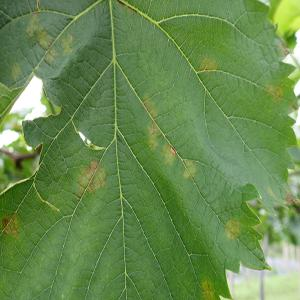Folha: (0, 0, 297, 298)
Fungo: (142, 93, 241, 240), (142, 94, 196, 179), (25, 14, 57, 66), (162, 142, 196, 179), (77, 158, 107, 198), (264, 82, 298, 110), (77, 130, 106, 150), (35, 26, 55, 52), (1, 213, 19, 238), (264, 82, 283, 104), (142, 93, 158, 119), (224, 218, 242, 240), (198, 55, 218, 72), (59, 33, 73, 56), (24, 15, 38, 38), (201, 278, 215, 300), (162, 143, 176, 165), (182, 159, 196, 179), (10, 62, 22, 84), (77, 130, 91, 146), (283, 192, 299, 205), (273, 86, 283, 103), (170, 144, 176, 154), (150, 126, 154, 135)
